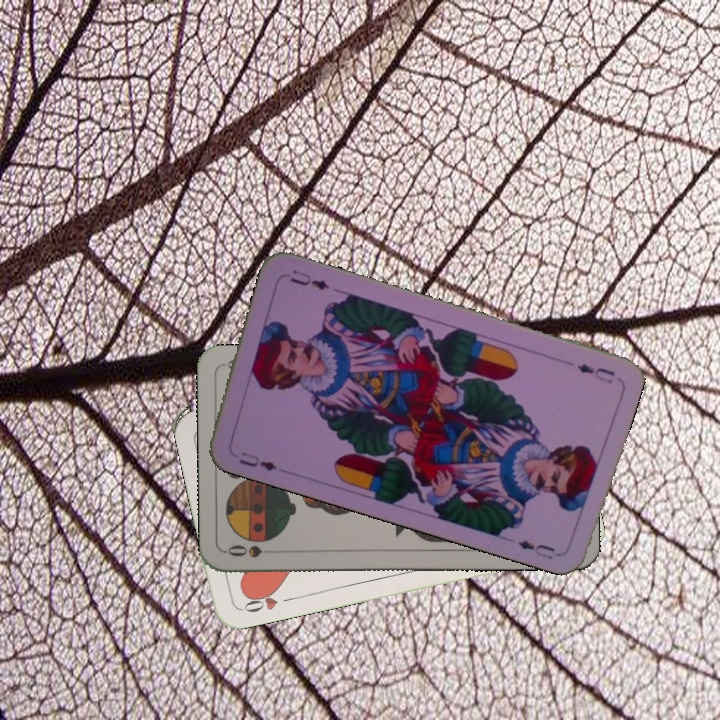EU: (572, 359, 618, 386), (235, 447, 279, 474)
HO: (238, 585, 296, 615)
SO: (224, 541, 283, 561)
